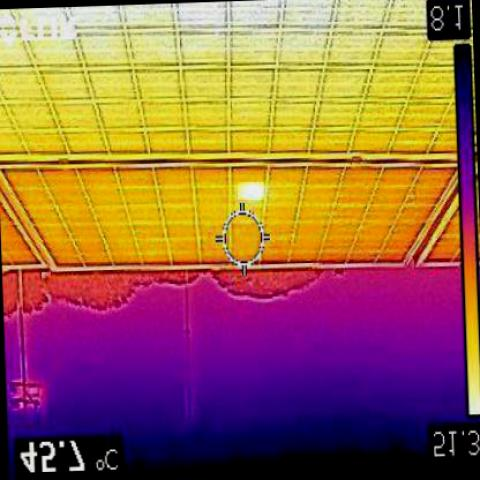fault: (238, 182, 264, 200)
